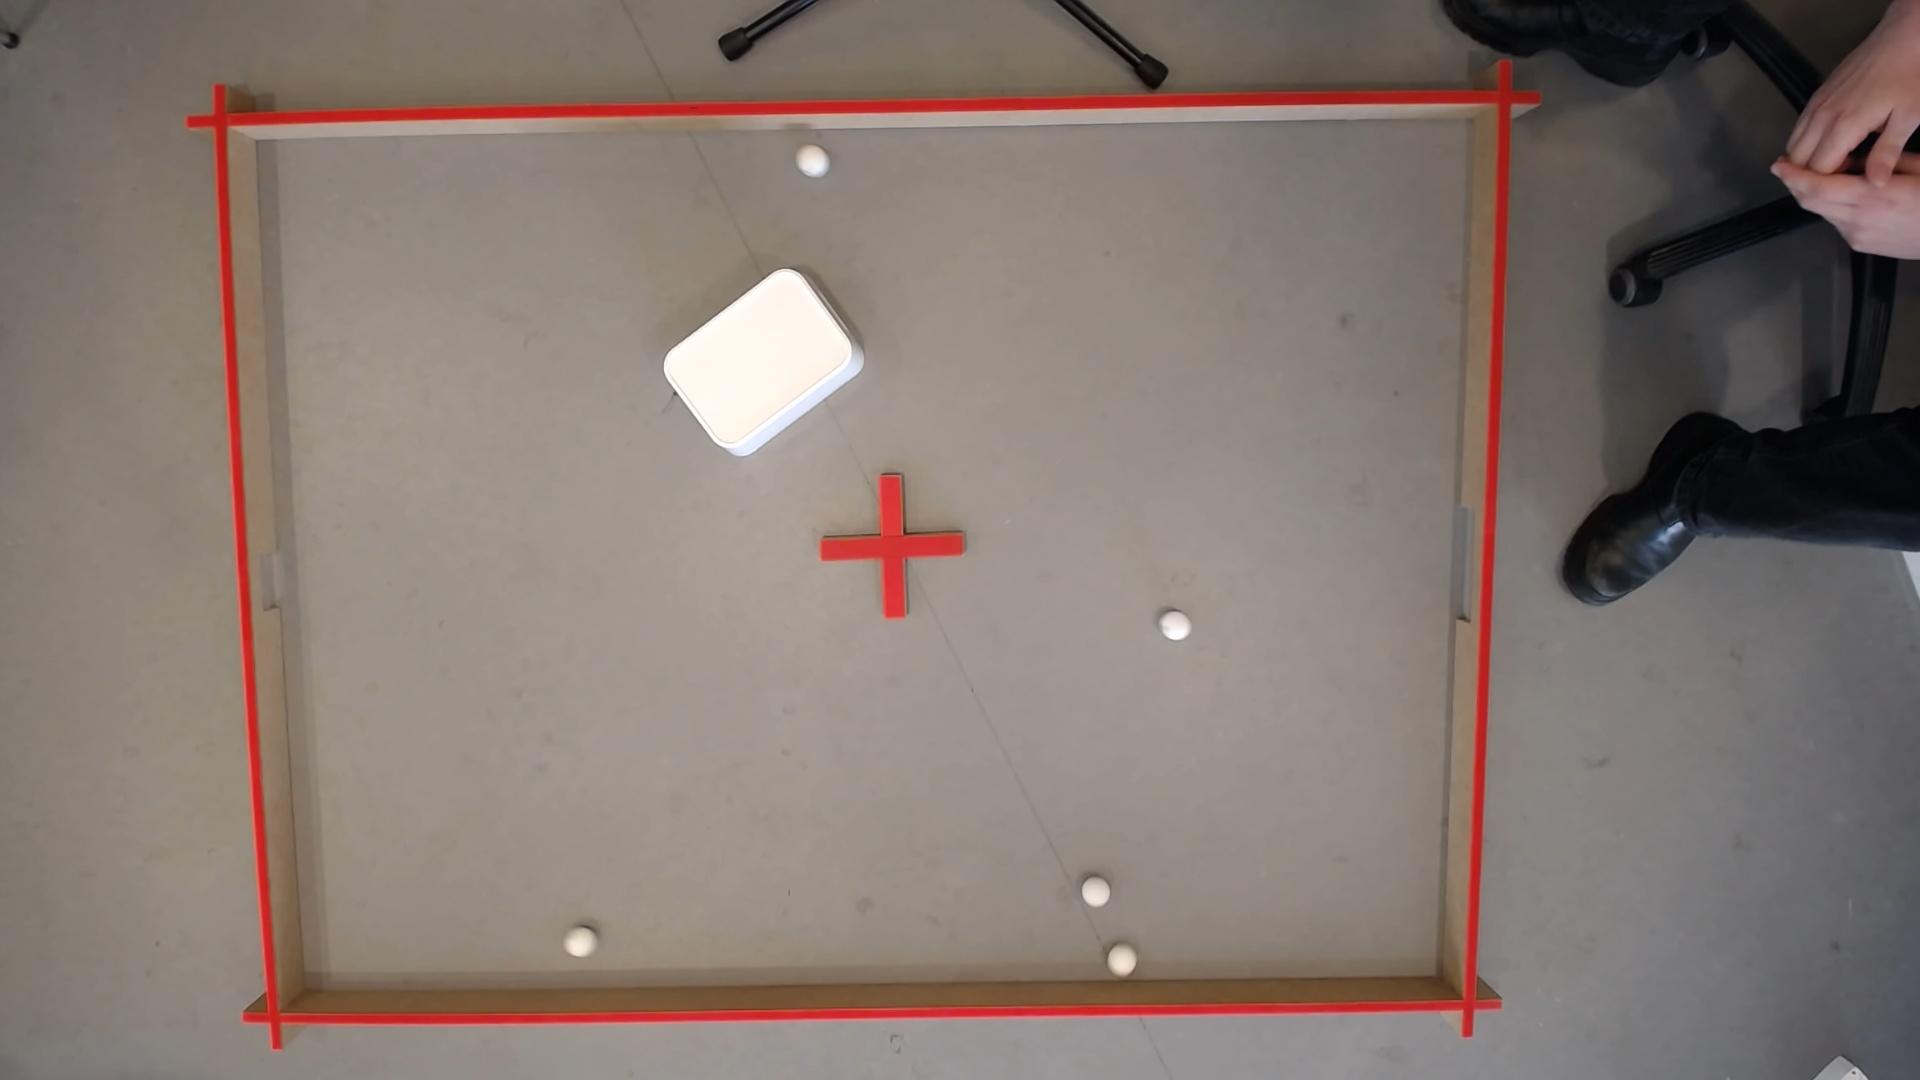balls: (653, 258, 869, 467), (794, 144, 831, 179), (1158, 609, 1192, 644), (563, 928, 595, 960), (1079, 880, 1110, 909)
car: (1106, 947, 1137, 976)
